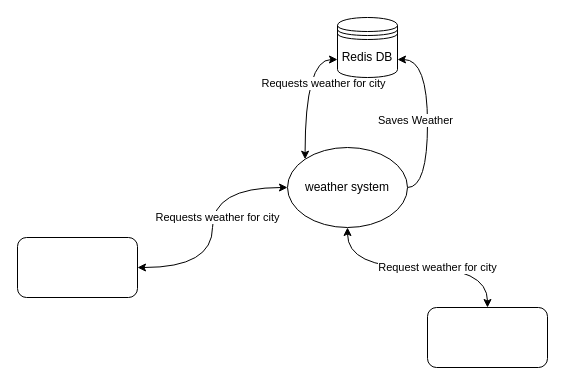
The diagram is 565 pixels wide and 385 high, and some of its shapes have lost their labels. Here are the shapes that lost their labels. From the top down, the box of each, then its label:
(16, 236, 138, 298): User
(426, 306, 548, 368): External Api
